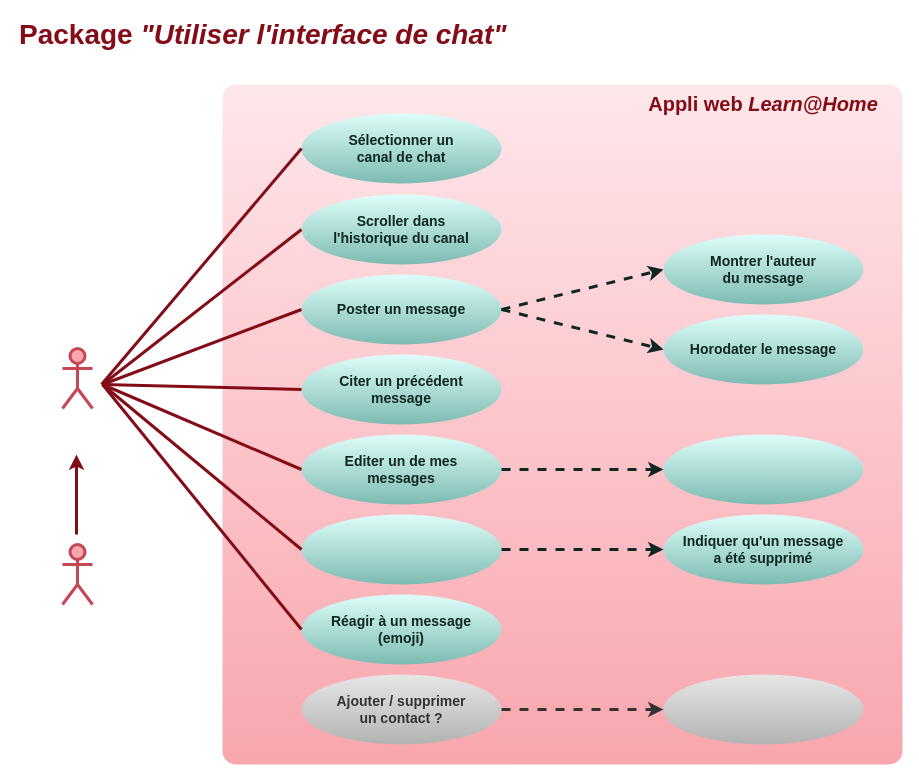
This 919x781 diagram has some shape labels left out. The shapes that lost their labels are listed below. From the top down, each one's centre as x and y in pixels, then its label:
the point at 77,378: Elève Parent d'élève
the point at 763,469: Indiquer qu'il y a eu une modification
the point at 401,549: Supprimer un de mes messages
the point at 77,574: Tuteur
the point at 763,709: Consulter un annuaire Learn@Home
